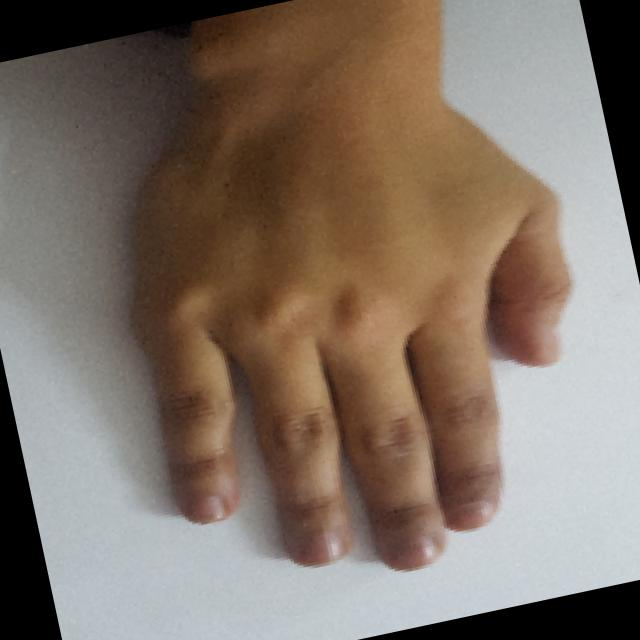Nail: (302, 530, 345, 565), (389, 539, 436, 570), (455, 499, 495, 529), (187, 494, 223, 523), (554, 319, 562, 352)
